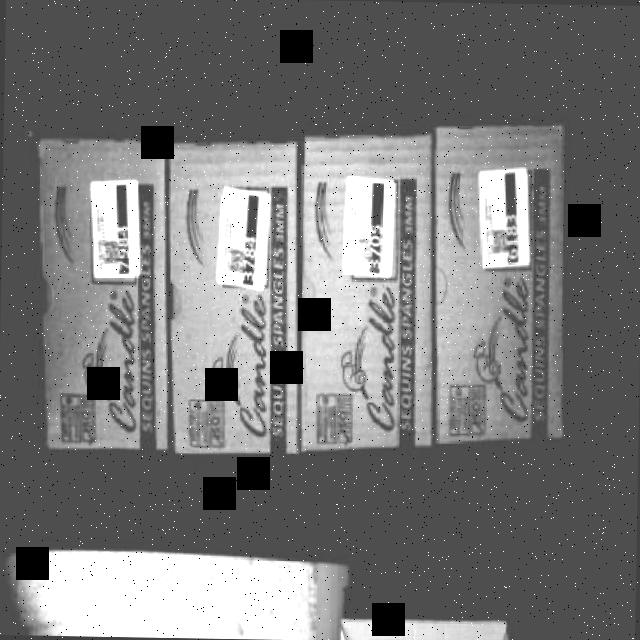box: (34, 135, 176, 457), (431, 123, 570, 448), (167, 146, 305, 449), (305, 140, 436, 447)
